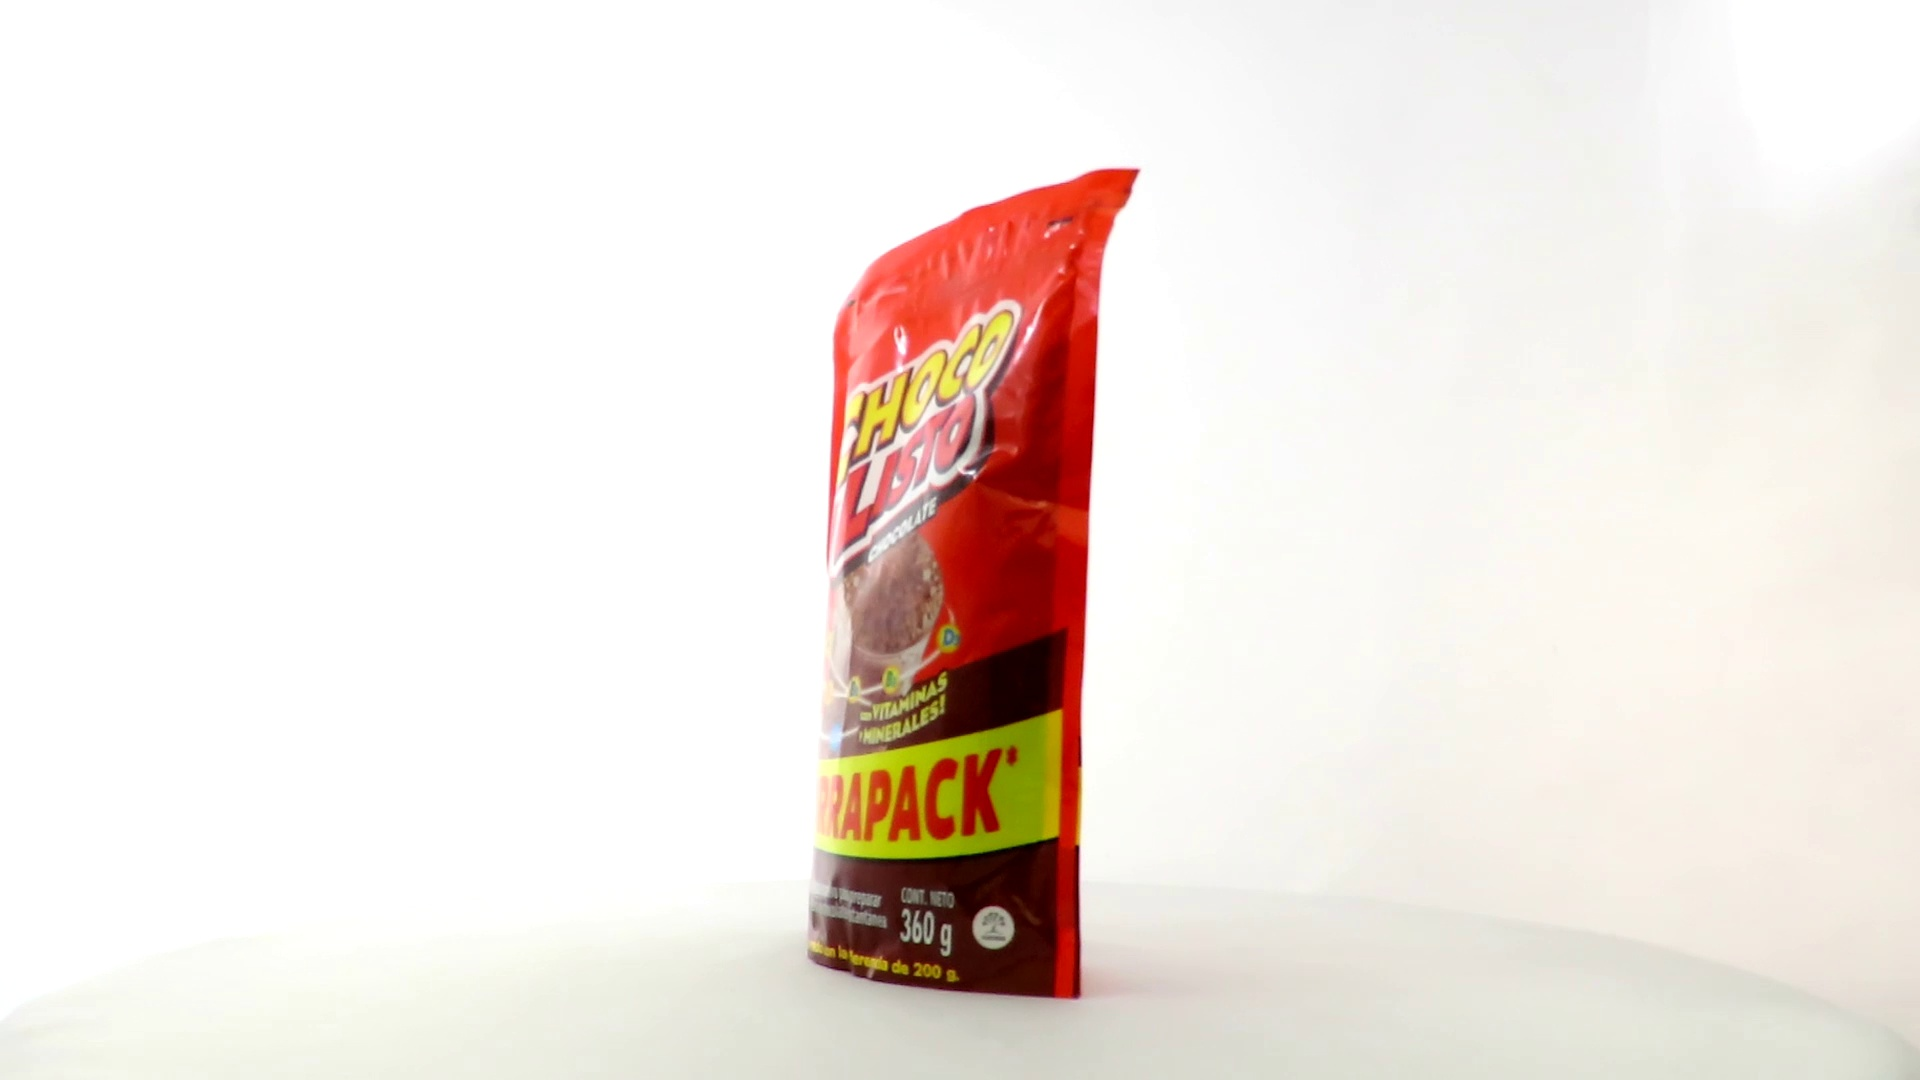COL0170103DYP36000: (802, 164, 1146, 1006)
